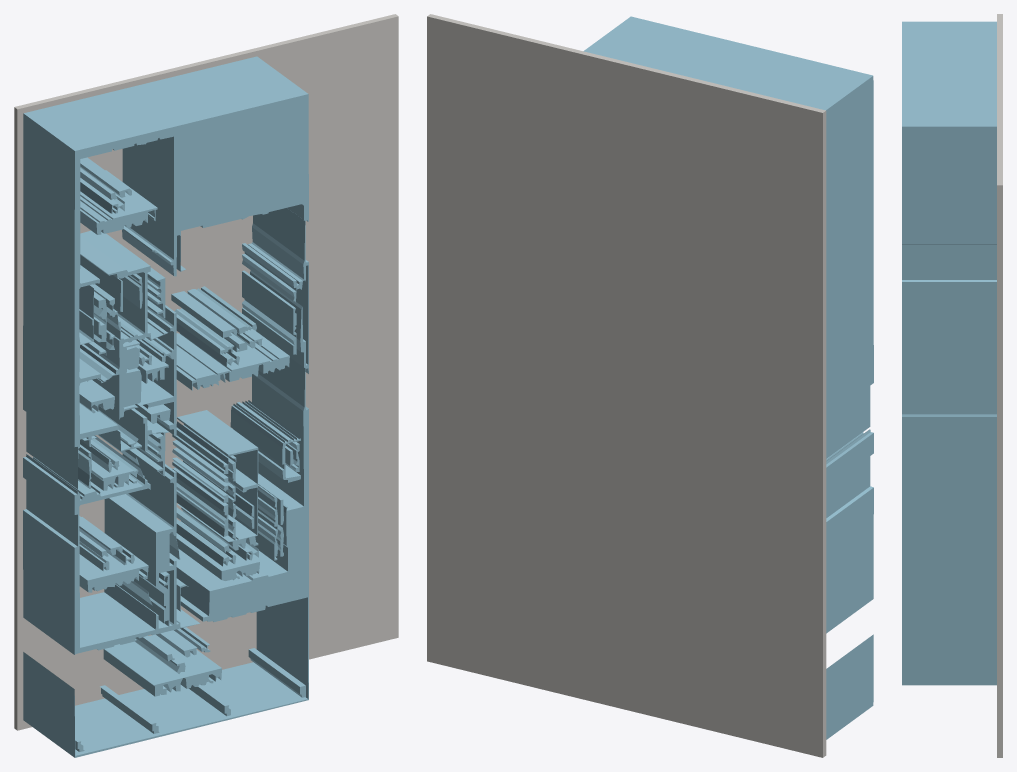
The picture shows the model from 3 angles, left to right: view 1: azimuth 30°, elevation 25°; view 2: azimuth 150°, elevation 25°; view 3: azimuth 270°, elevation 25°; orthographic projection. The views are drawn at different scales.
Parts seen in each view (by area): view 1: world; view 2: world; view 3: world.
Part boxes in pixels (box(x1,y1,x2,y2)): world: box(14, 14, 398, 757); world: box(427, 14, 873, 757); world: box(902, 14, 1002, 757).
Bounding box in the file's own units: 10.23 × 15.93 × 2.54.
